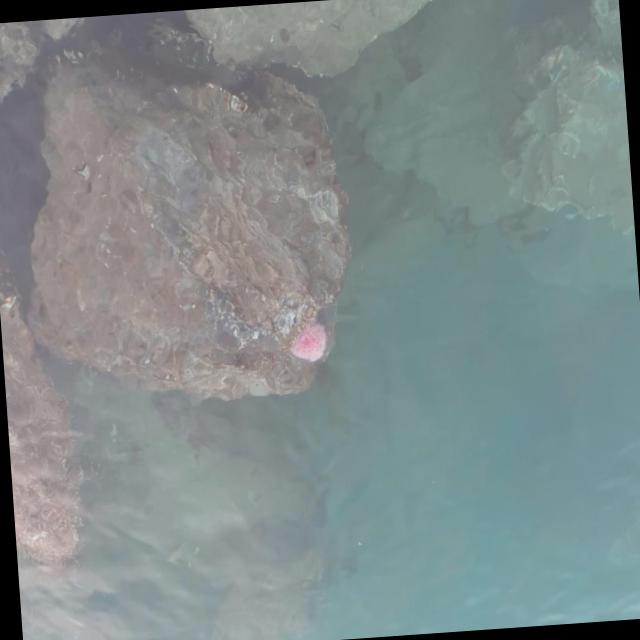Deniz Kestanesi: (289, 319, 326, 362)
